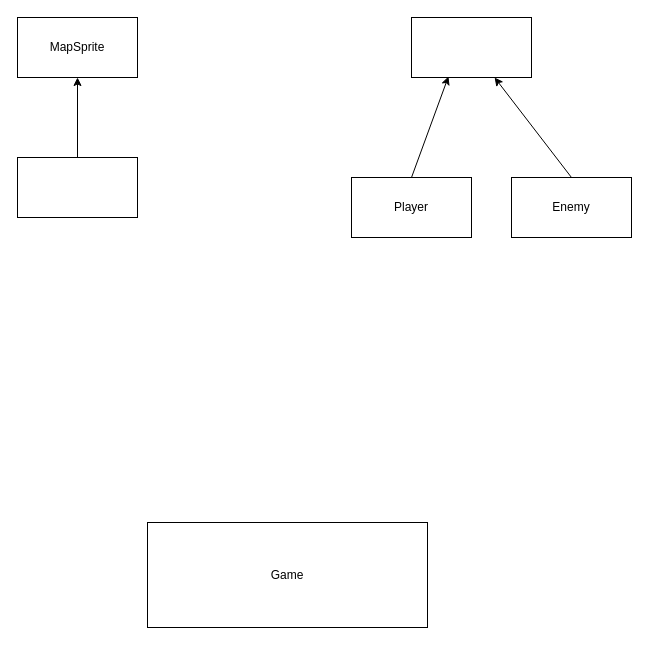
This 649x645 diagram has some shape labels left out. Each missing label, with the centre of its shape:
"LiveObject" belongs at pixel 471 47.
"PhysicalMapSprite" belongs at pixel 77 187.
